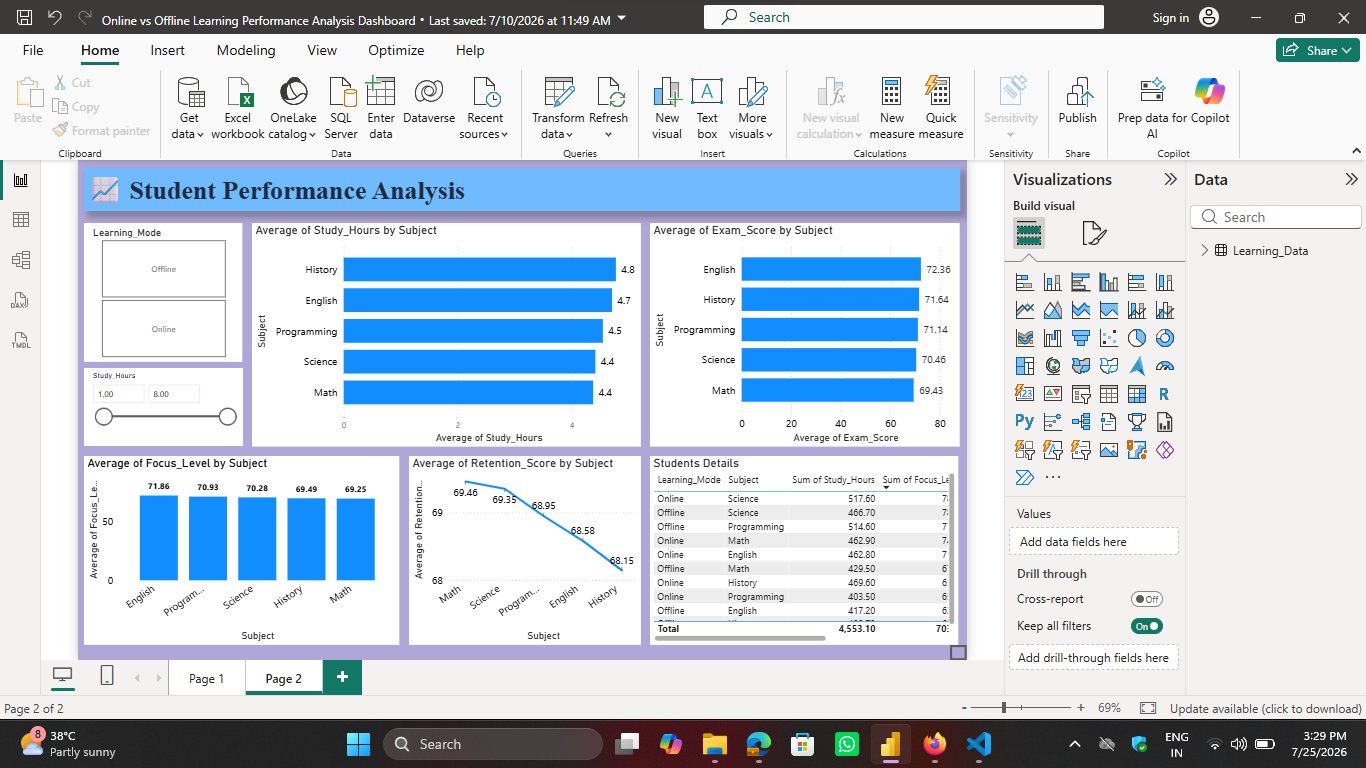

What the dashboard file says about the page in this screenshot:
{"tool":"powerbi","page":{"name":"Page 2","canvas":[1280,720],"ordinal":1},"visuals":[{"type":"clusteredBarChart","fields":{"Category":["Learning_Data.Subject"],"Y":["Avg(Learning_Data.Study_Hours)"]},"box":[250,90,560,322],"z":0},{"type":"textbox","box":[8,12,1262,62],"z":1},{"type":"clusteredColumnChart","fields":{"Category":["Learning_Data.Subject"],"Y":["Avg(Learning_Data.Focus_Level)"]},"box":[8,426,454,272],"z":2},{"type":"lineChart","fields":{"Category":["Learning_Data.Subject"],"Y":["Avg(Learning_Data.Retention_Score)"]},"box":[476,426,334,272],"z":3},{"type":"clusteredBarChart","fields":{"Category":["Learning_Data.Subject"],"Y":["Avg(Learning_Data.Exam_Score)"]},"box":[824,90,446,322],"z":4},{"type":"tableEx","title":"Students Details","fields":{"Values":["Learning_Data.Learning_Mode","Learning_Data.Subject","Sum(Learning_Data.Study_Hours)","Sum(Learning_Data.Focus_Level)","Sum(Learning_Data.Retention_Score)","Sum(Learning_Data.Exam_Score)"]},"box":[824,426,444,272],"z":5},{"type":"slicer","fields":{"Values":["Learning_Data.Learning_Mode"]},"box":[8,90,228,200],"z":6},{"type":"slicer","fields":{"Values":["Learning_Data.Study_Hours"]},"box":[8,300,228,112],"z":7},{"type":"actionButton","box":[1256,698,24,22],"z":8}]}

Visuals, with their boxes on the page's 1280x720 design canvas (x1, y1, x2, y2). These are canvas units, not pixel positions in the 1366x768 screenshot, which may show the page scaled, cropped or inside an application window:
clusteredBarChart - Learning_Data.Subject x Avg(Learning_Data.Study_Hours): select_region(250, 90, 810, 412)
textbox: select_region(8, 12, 1270, 74)
clusteredColumnChart - Learning_Data.Subject x Avg(Learning_Data.Focus_Level): select_region(8, 426, 462, 698)
lineChart - Learning_Data.Subject x Avg(Learning_Data.Retention_Score): select_region(476, 426, 810, 698)
clusteredBarChart - Learning_Data.Subject x Avg(Learning_Data.Exam_Score): select_region(824, 90, 1270, 412)
"Students Details" tableEx: select_region(824, 426, 1268, 698)
slicer - Learning_Data.Learning_Mode: select_region(8, 90, 236, 290)
slicer - Learning_Data.Study_Hours: select_region(8, 300, 236, 412)
actionButton: select_region(1256, 698, 1280, 720)
